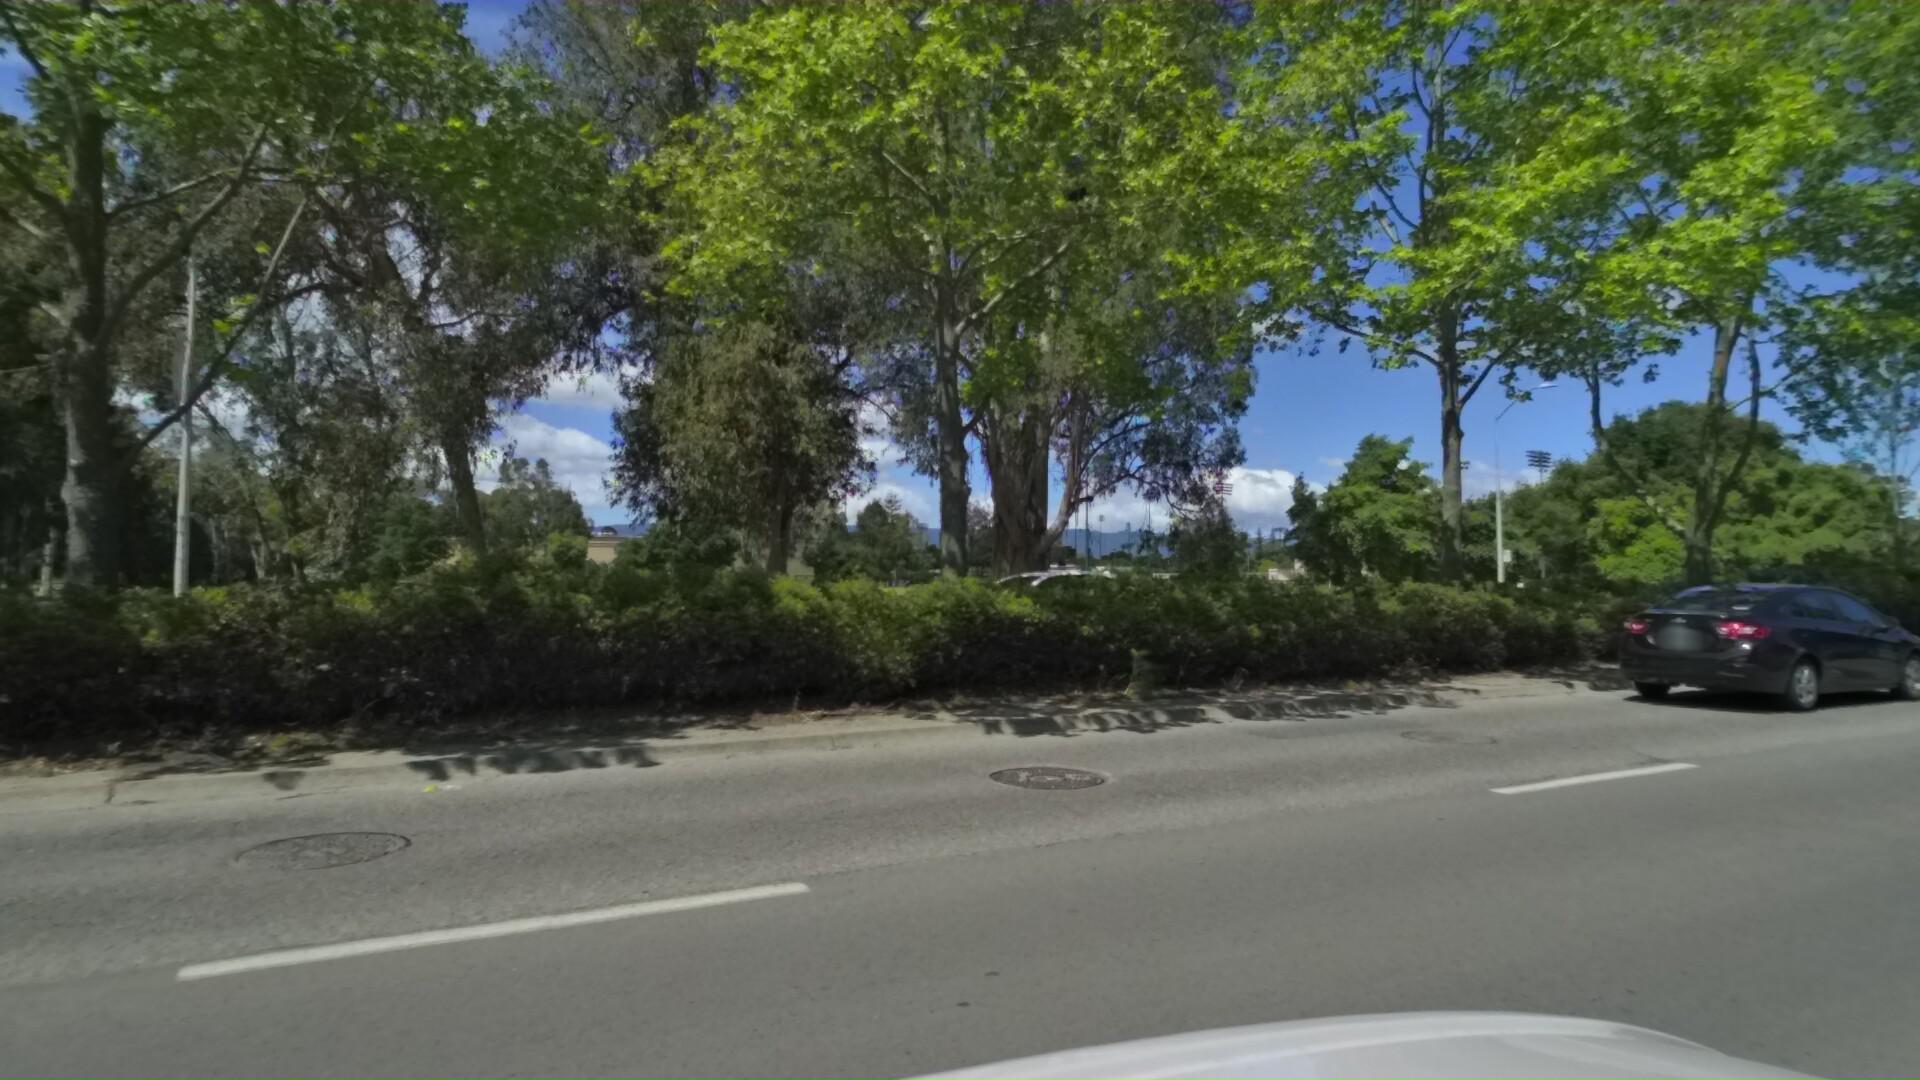car: (1600, 585, 1920, 723), (861, 562, 1146, 666)
